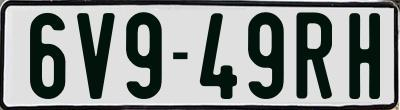4: (199, 13, 236, 105)
6: (28, 10, 65, 102)
9: (245, 10, 284, 97), (124, 12, 160, 105)
H: (349, 13, 384, 105)
R: (293, 12, 330, 105)
V: (76, 11, 115, 99)
